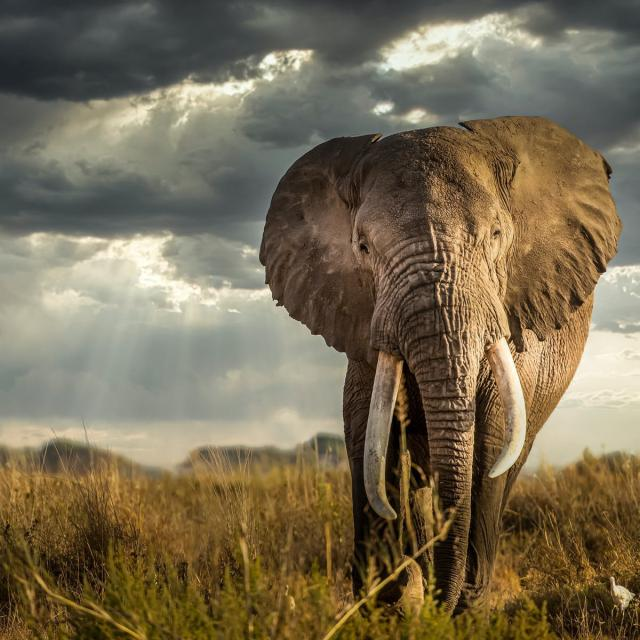Elephant: (258, 114, 623, 624)
